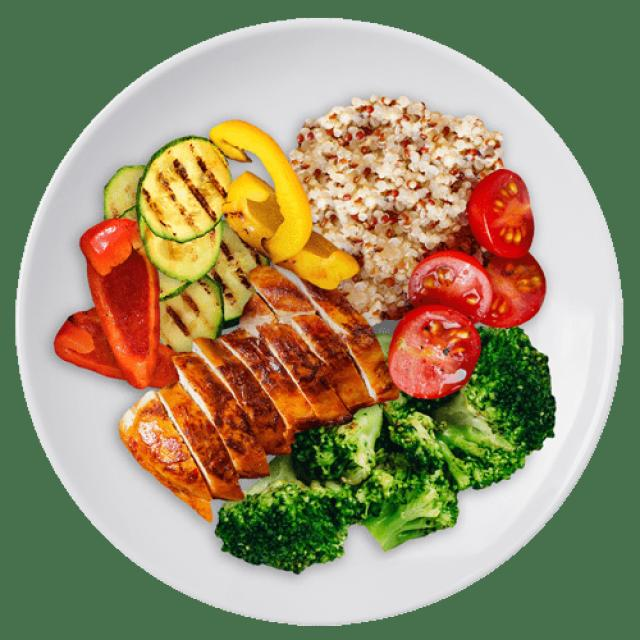Chicken: (120, 266, 398, 520)
Green veg: (216, 328, 554, 570), (105, 137, 268, 351)
Non green veg: (389, 170, 545, 398), (210, 120, 358, 288), (55, 220, 177, 388)
Rice: (289, 95, 503, 320)
